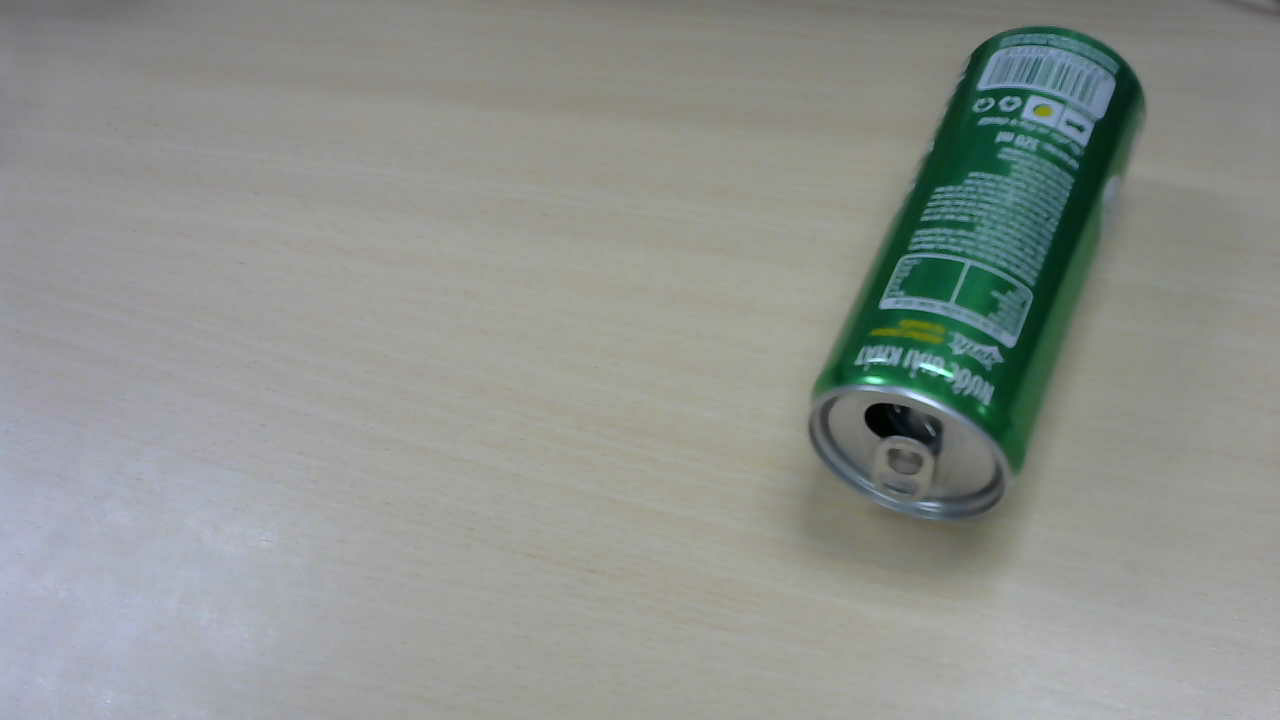Sprite: (814, 28, 1150, 526)
